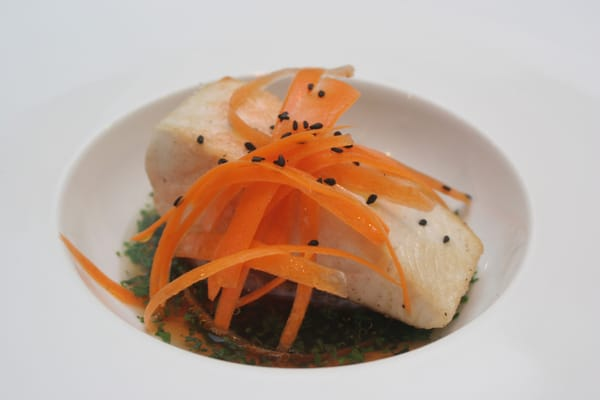sushi: (56, 60, 547, 379)
